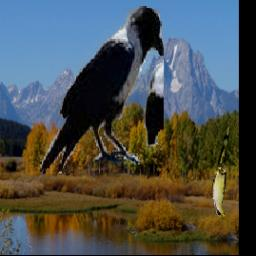Crow: (40, 6, 164, 179)
Cuckoo: (212, 128, 229, 218)
